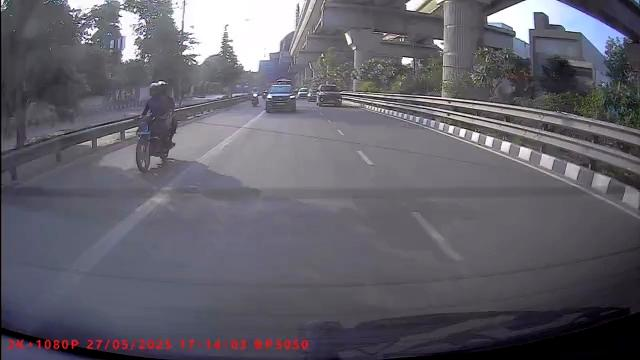passenger_with_helmet: (133, 79, 178, 173)
